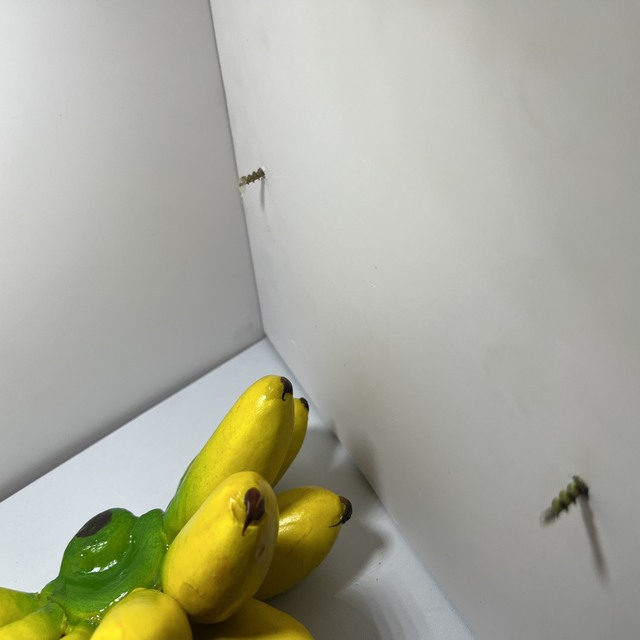Chuoi: (0, 375, 354, 640)
